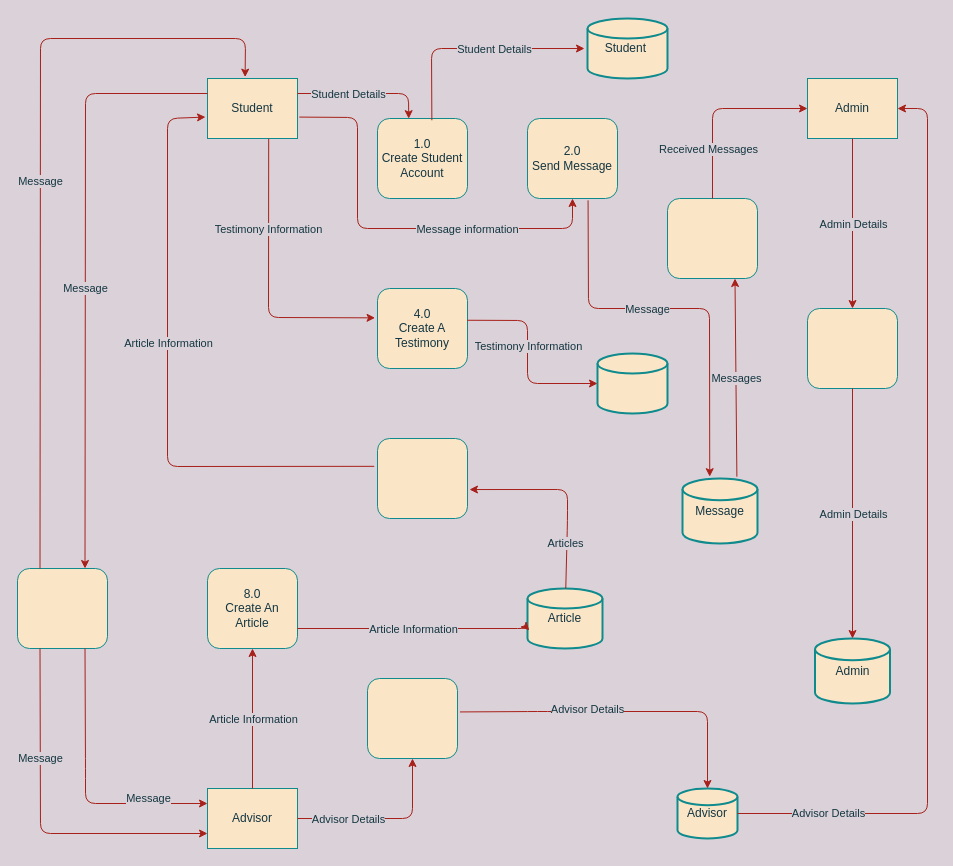
The diagram is 953 pixels wide and 866 high, and some of its shapes have lost their labels. Here are the shapes that lost their labels. From the top down, the centre of each, then its label:
the point at 712,238: 3.0 Check Received Messages
the point at 852,348: 5.0 Add/Update Admin Details
the point at 632,383: Testimonials
the point at 422,478: 6.0 Show Articles
the point at 62,608: 7.0 Live chat
the point at 412,718: 9.0 Create Advisor Account
